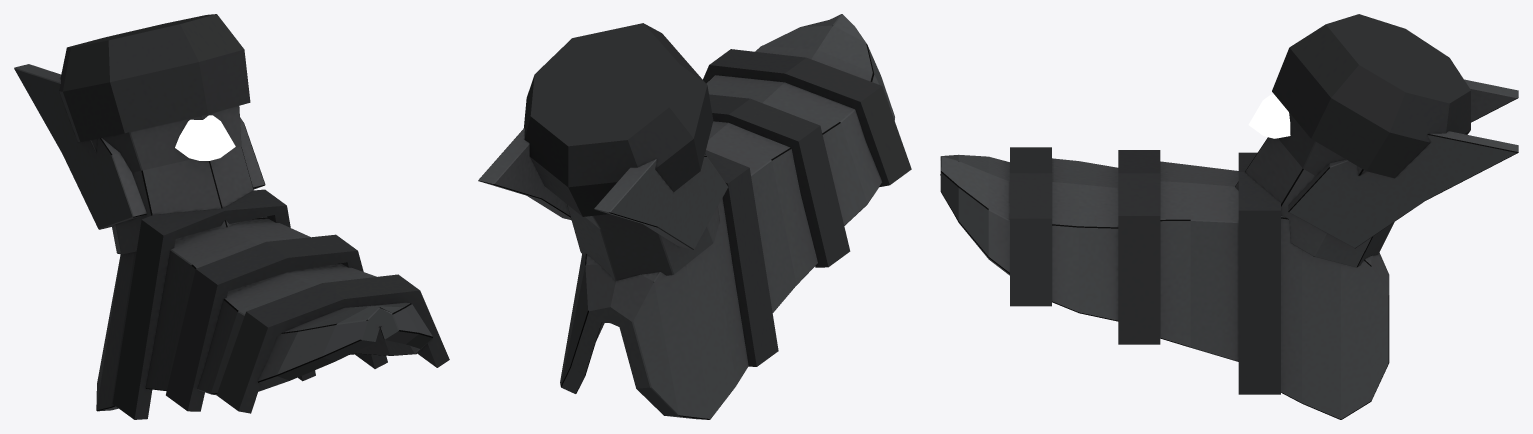
File: armor_boot_ebony.glb
3 renders of one model, left to right at view 1: azimuth 30°, elevation 25°; view 2: azimuth 150°, elevation 25°; view 3: azimuth 270°, elevation 25°, orthographic. The views are drawn at different scales.
Parts seen in each view (by area): view 1: boot; view 2: boot; view 3: boot.
Part boxes in pixels (box(x1,y1,x2,y2)): boot: box(14, 14, 449, 419); boot: box(478, 14, 911, 419); boot: box(940, 14, 1518, 419).
Bounding box in the file's own units: 0.156 × 0.266 × 0.3843.
3 materials, 3 textured.
